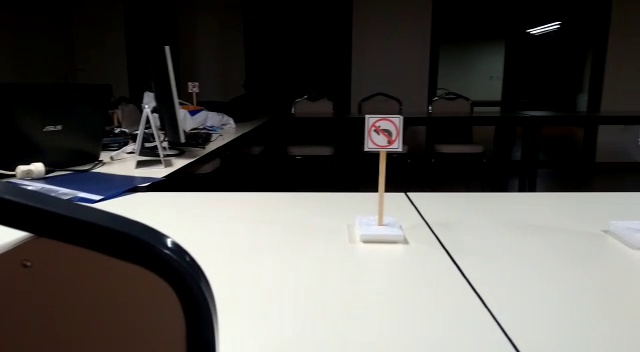sola_donulmez: (366, 117, 404, 150)
